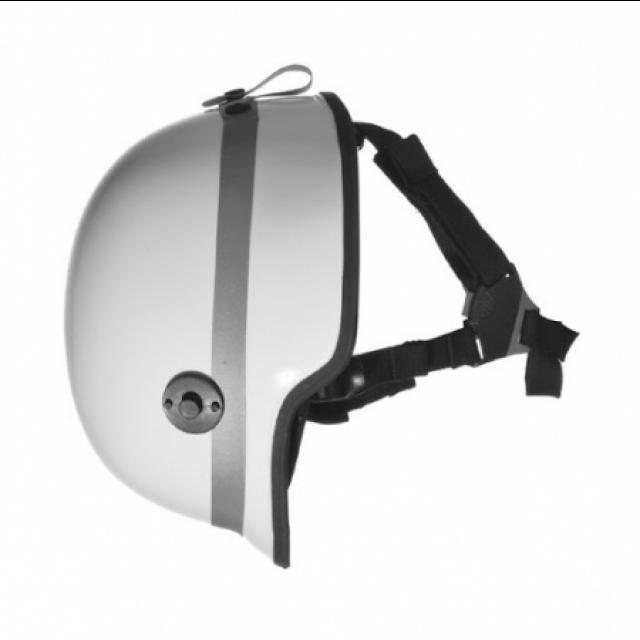safety_helmet: (64, 63, 577, 569)
